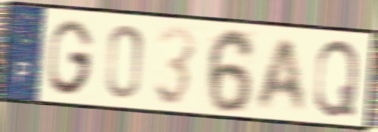0: (104, 22, 146, 102)
3: (153, 23, 203, 108)
6: (206, 24, 258, 116)
A: (254, 36, 309, 113)
G: (46, 17, 96, 97)
Q: (311, 37, 362, 119)
